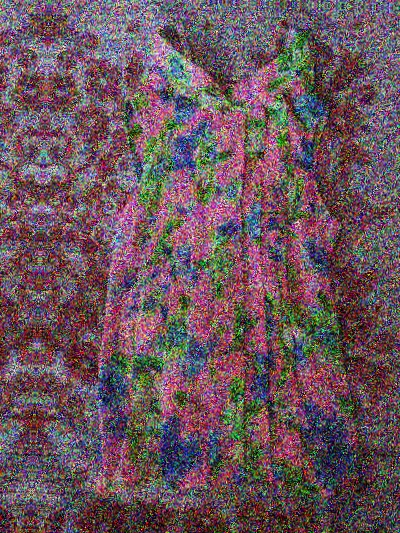Dress: (59, 25, 383, 528), (0, 12, 19, 515)
